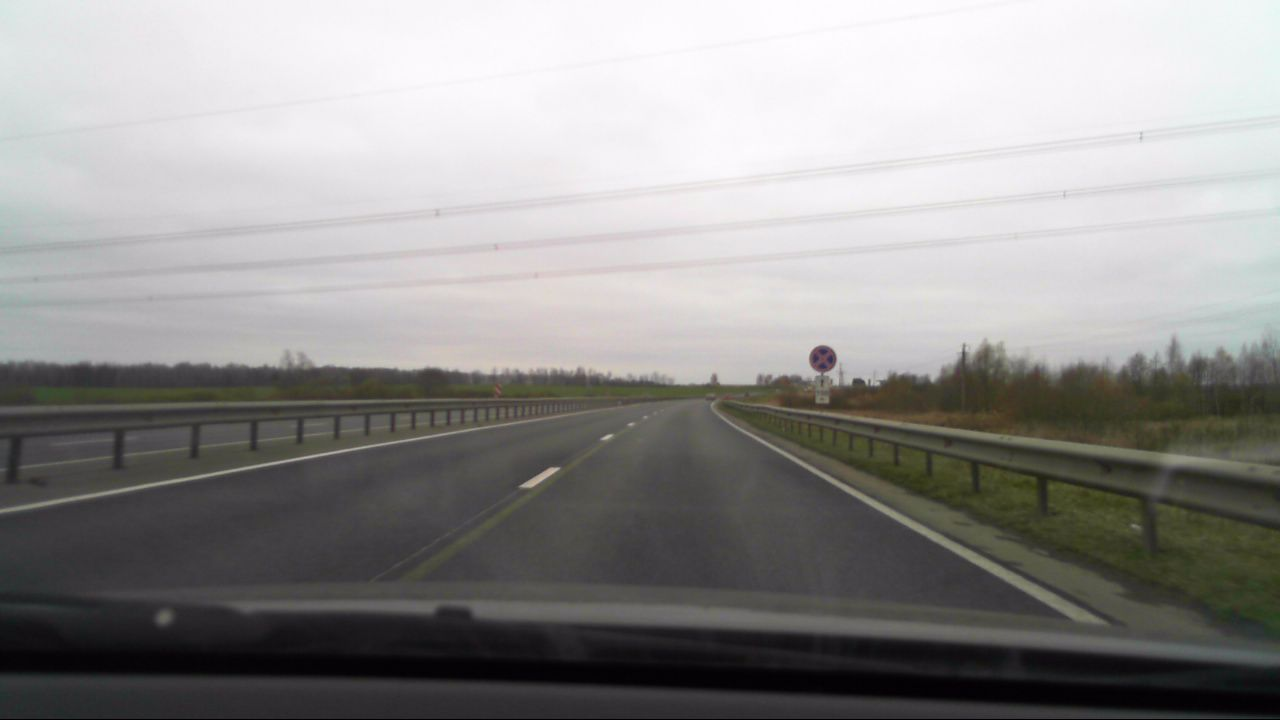No Parking: (806, 346, 837, 372)
